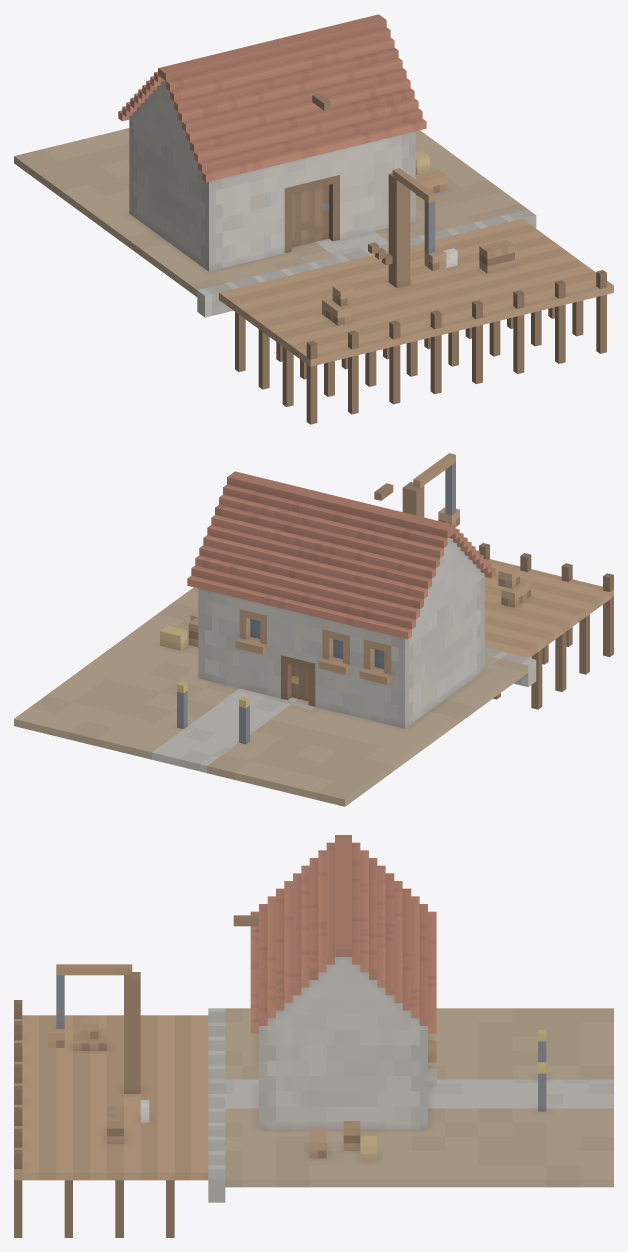
File: trading_post.l3.glb
The picture shows the model from 3 angles, top to bottom: view 1: azimuth 30°, elevation 25°; view 2: azimuth 150°, elevation 25°; view 3: azimuth 270°, elevation 25°; orthographic projection. The views are drawn at different scales.
Visible parts, largest first — view 1: trading_post; view 2: trading_post; view 3: trading_post.
Part boxes in pixels (x1,y1,x2,y2): trading_post: [14, 14, 613, 424]; trading_post: [14, 453, 613, 806]; trading_post: [14, 835, 613, 1237].
Bounding box in the file's own units: 6 × 4.12 × 8.88.
